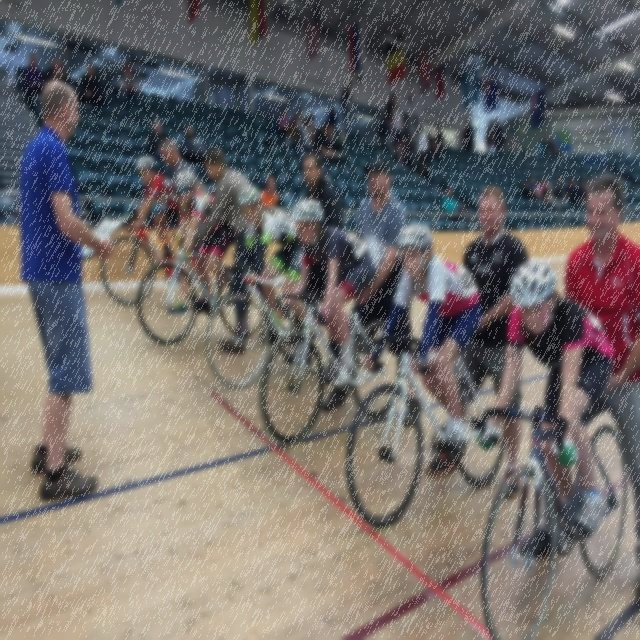pessoa: (515, 173, 640, 623), (474, 253, 616, 564), (15, 79, 116, 502), (424, 180, 534, 498), (360, 220, 486, 456), (321, 156, 422, 426), (176, 146, 280, 354), (274, 195, 376, 388), (218, 185, 322, 342), (280, 150, 345, 383), (160, 167, 236, 313), (123, 154, 195, 286), (158, 137, 206, 262), (22, 50, 47, 113), (180, 122, 213, 167), (441, 186, 478, 226), (385, 102, 404, 170), (80, 62, 106, 109), (118, 60, 144, 106), (312, 120, 339, 164), (416, 123, 435, 184), (556, 174, 587, 206), (283, 114, 305, 158), (340, 80, 356, 138), (148, 119, 168, 165), (492, 116, 514, 154), (326, 130, 348, 165), (260, 174, 282, 208), (42, 56, 68, 84), (298, 115, 315, 154), (564, 176, 586, 204), (520, 179, 544, 203), (484, 118, 500, 154), (326, 122, 342, 158), (384, 92, 397, 136), (538, 178, 560, 202), (418, 150, 434, 182), (278, 108, 291, 138), (538, 134, 552, 160), (434, 123, 446, 151), (546, 135, 561, 157), (576, 177, 590, 199), (404, 132, 418, 154), (307, 113, 317, 143), (326, 106, 338, 130), (378, 115, 386, 150), (430, 140, 442, 162), (400, 138, 410, 164), (296, 108, 304, 140), (463, 119, 471, 150), (426, 128, 435, 150), (413, 131, 420, 153), (530, 175, 540, 190), (584, 178, 594, 192), (518, 146, 528, 158)
